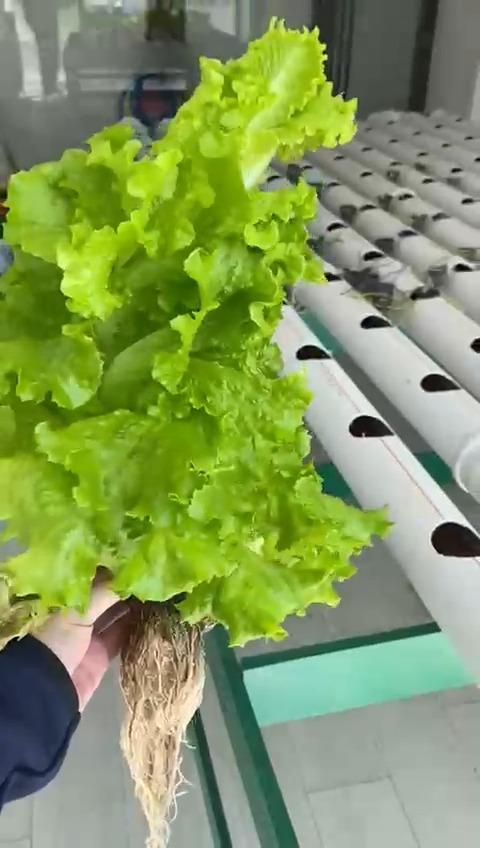Healthy: (0, 15, 401, 645)
